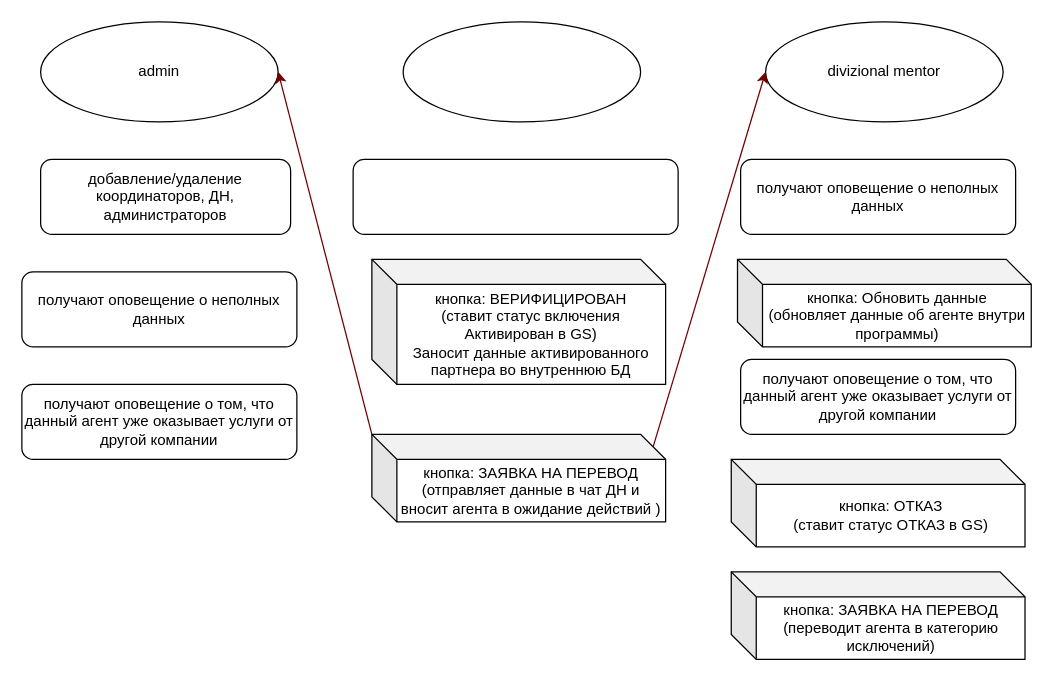
Some shapes in this 1054 by 681 pixel diagram are drawn without their labels. Here are the shapes that lost their labels. From the top down, the centre of each, then its label:
point (521, 71): coordinators
point (515, 196): получают оповещение Бота о новом агенте
